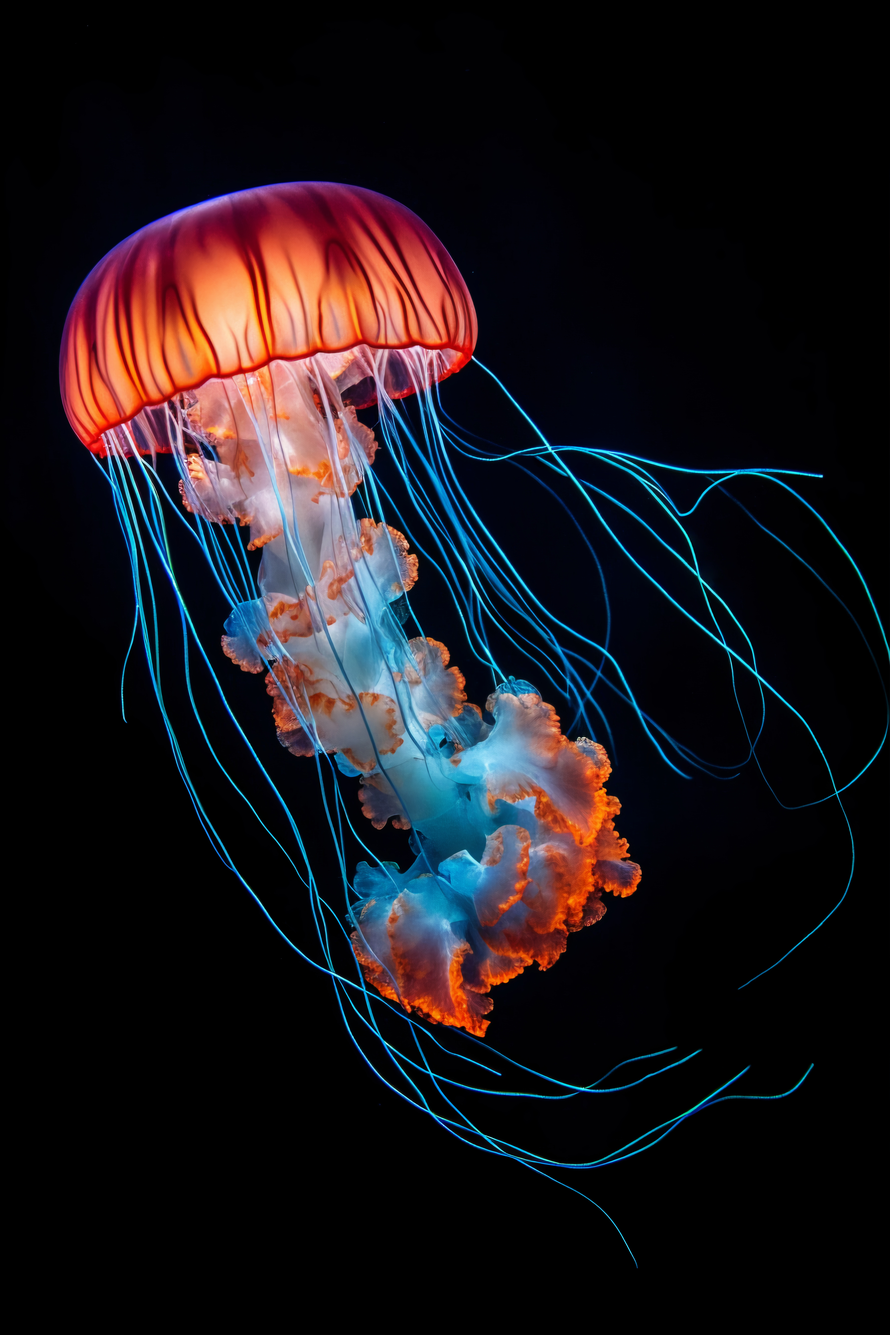jellyfish: (51, 180, 879, 1184)
